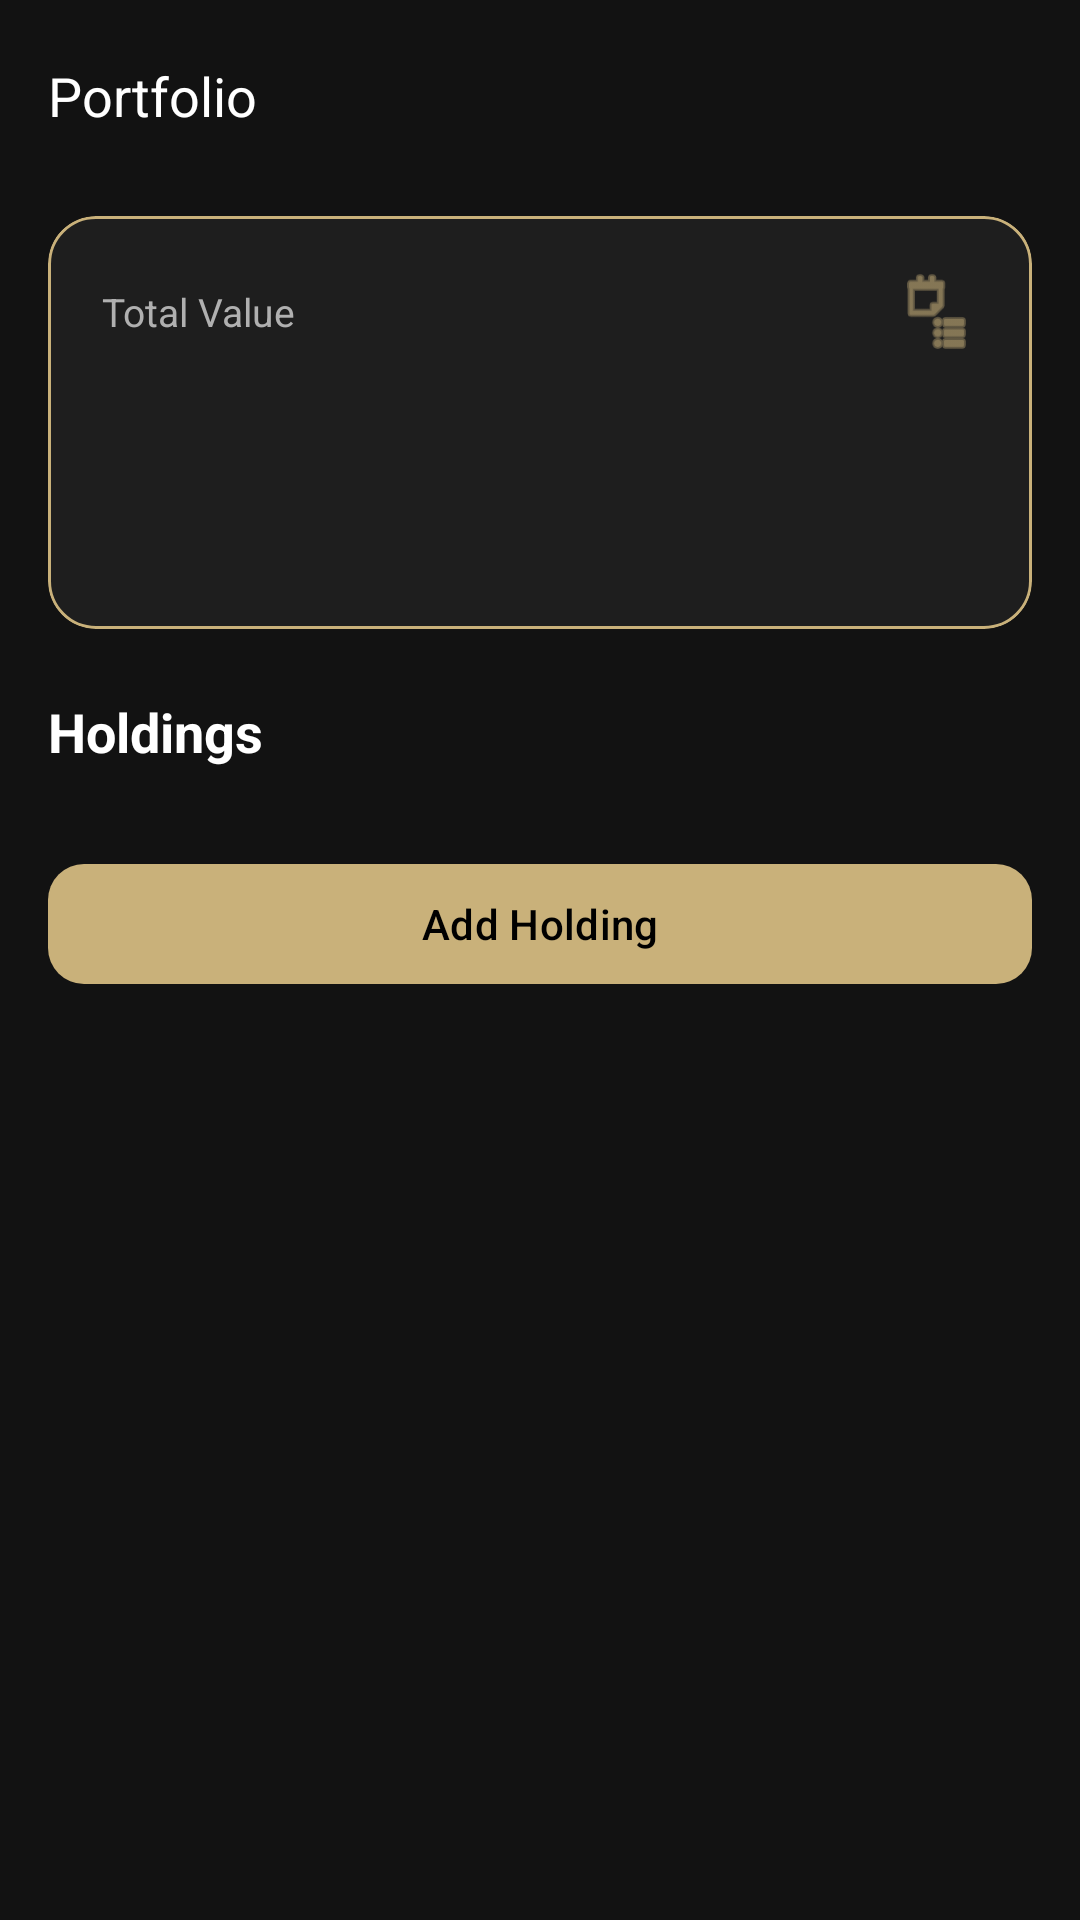

Locate icon controls on the screen. Image size 1080 × 1920, boxes as (x1, y1, x2, y2).
agenda: (907, 274, 966, 349)
